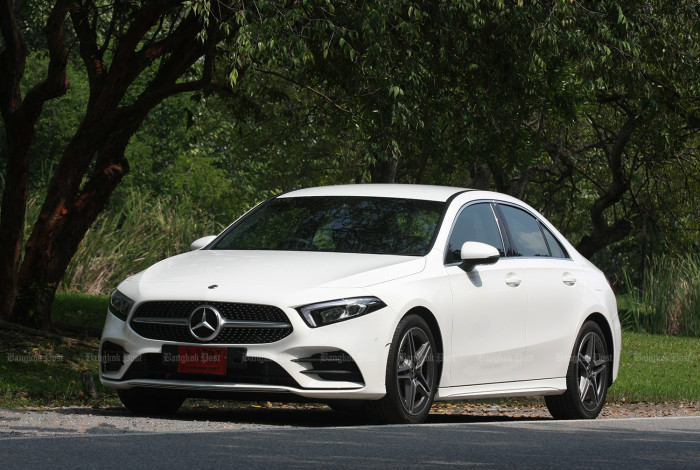car: (98, 183, 620, 425)
